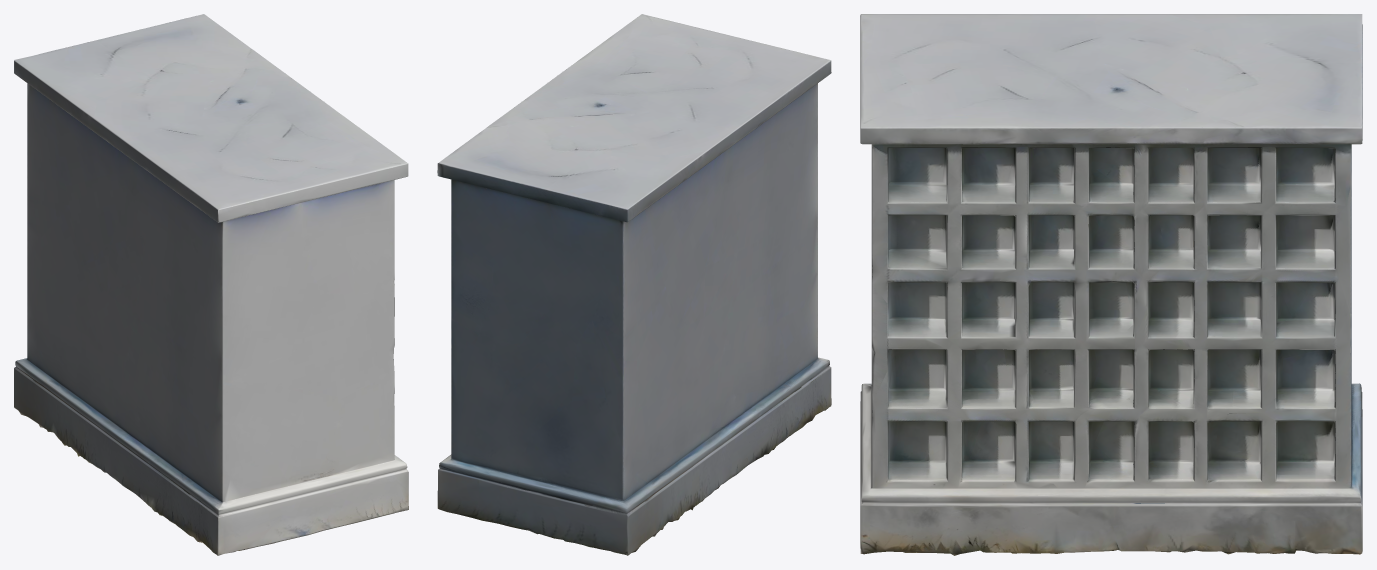
The model's file is columbarium.fbx.
3 views of the same model, side by side, from view 1: azimuth 30°, elevation 25°; view 2: azimuth 150°, elevation 25°; view 3: azimuth 270°, elevation 25° (orthographic). The views are drawn at different scales.
Visible parts, largest first — view 1: tripo_node_a1022ed9; view 2: tripo_node_a1022ed9; view 3: tripo_node_a1022ed9.
Boxes of the visible parts, x1,y1,x2,y2 form: tripo_node_a1022ed9: (14, 14, 408, 555); tripo_node_a1022ed9: (437, 14, 831, 555); tripo_node_a1022ed9: (860, 14, 1362, 555).
Size of the model in its own units: 0.5409 by 0.9422 by 0.9999.
1 material, 1 textured.
